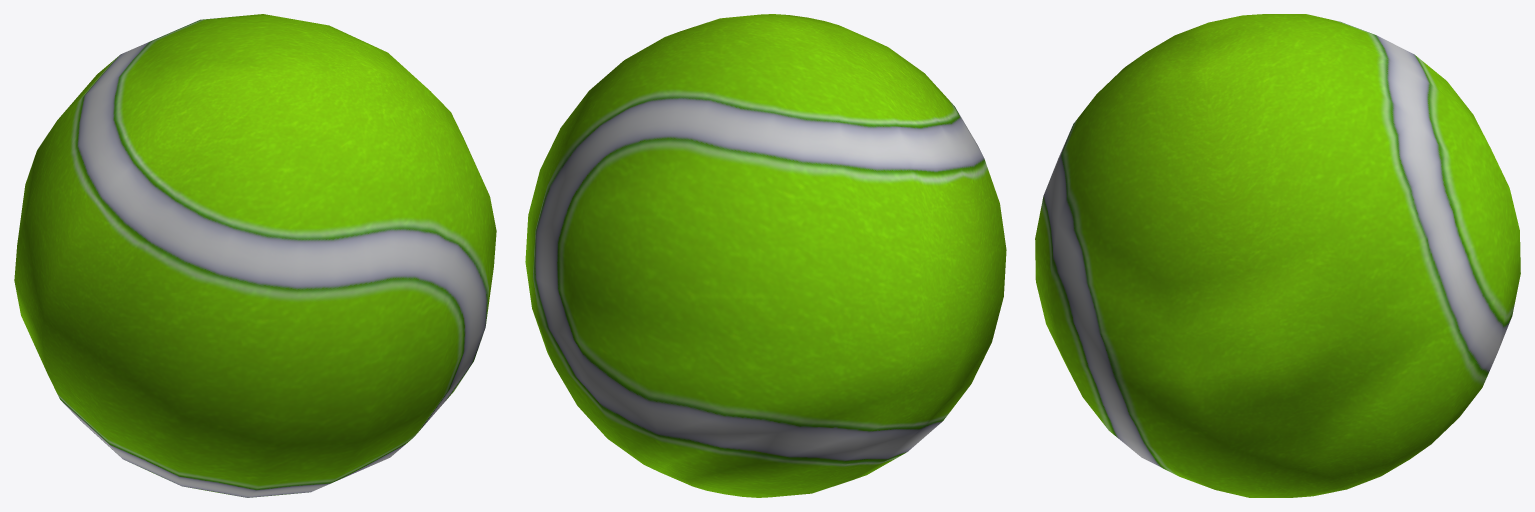
3 renders of one model, left to right at view 1: azimuth 30°, elevation 25°; view 2: azimuth 150°, elevation 25°; view 3: azimuth 270°, elevation 25°, orthographic.
Visible parts, largest first — view 1: ball5; view 2: ball5; view 3: ball5.
Boxes of the visible parts, x1,y1,x2,y2 form: ball5: (14,14,496,497); ball5: (525,14,1006,497); ball5: (1035,14,1520,497).
Size of the model in its own units: 0.6029 by 0.601 by 0.601.
Materials: 1 (1 with a texture image).
